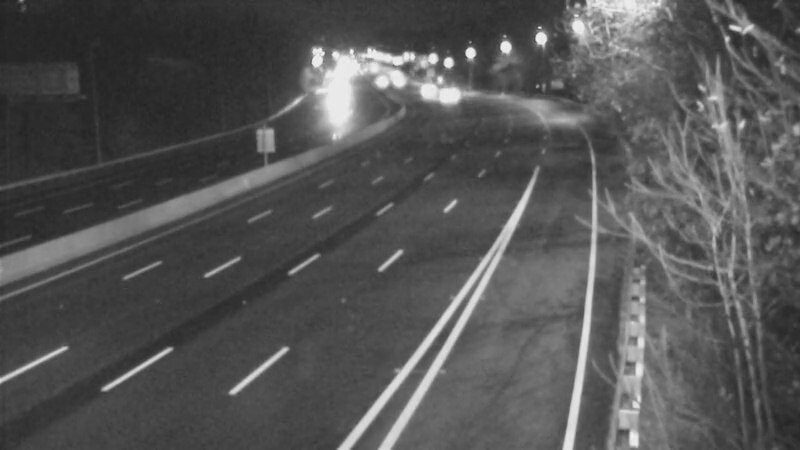vehicle: (372, 56, 422, 106), (353, 55, 403, 105), (405, 63, 455, 113), (422, 69, 472, 119), (306, 72, 356, 122)
